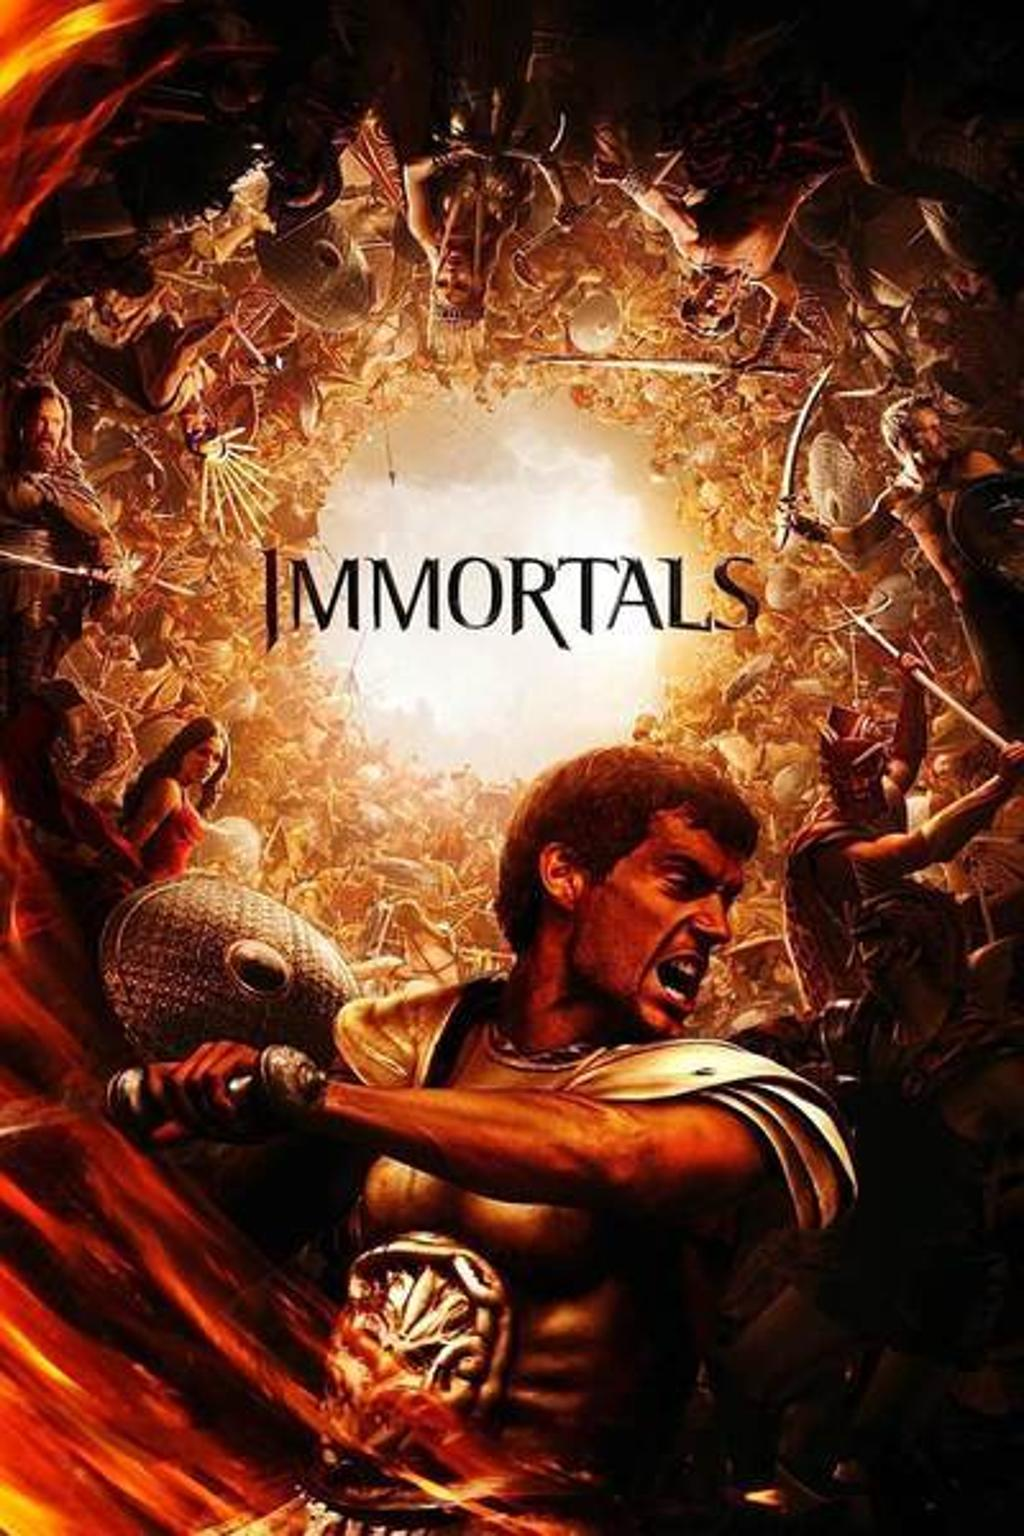face: (584, 801, 743, 1038), (435, 247, 473, 306), (905, 409, 946, 462), (835, 760, 877, 812), (27, 398, 64, 453), (690, 279, 731, 326), (185, 735, 223, 782), (187, 401, 218, 450), (101, 291, 139, 326)
